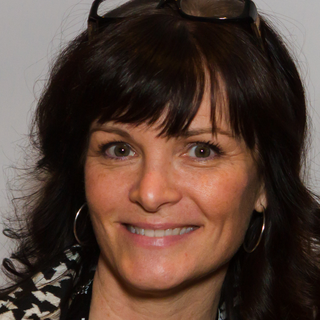eye: (174, 140, 228, 162), (96, 138, 143, 162)
